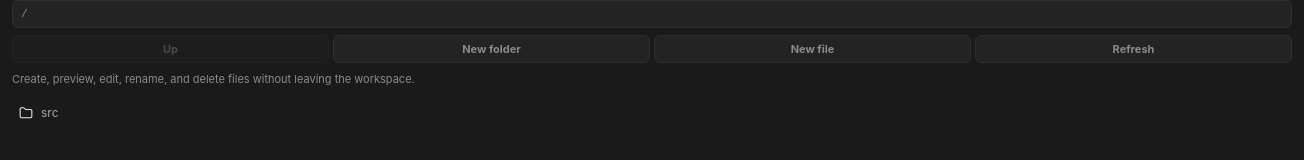
Test case: WorkspaceFilePanel - Folder Operations Unit Tests › Folder selection navigates into folder (Requirement 4.1, 4.2, 4.3) › should navigate into folder when folder entry is clicked
Expected: the text "src" is shown, left=41, top=105, right=58, bottom=120
# Click on folder
Click the button "src".
click(26, 113)  # box left=12, top=96, right=1292, bottom=130
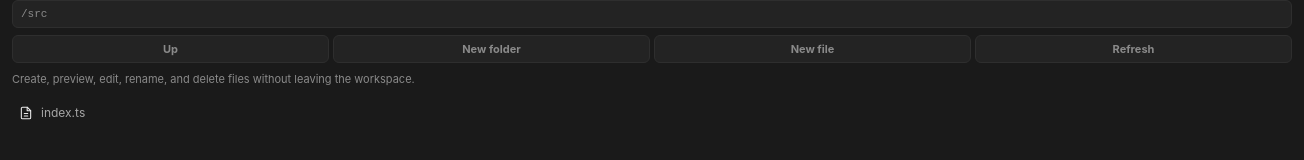
Result: the text "/src" is shown at left=12, top=0, right=1292, bottom=28
Result: the text "index.ts" is shown at left=41, top=105, right=85, bottom=120
